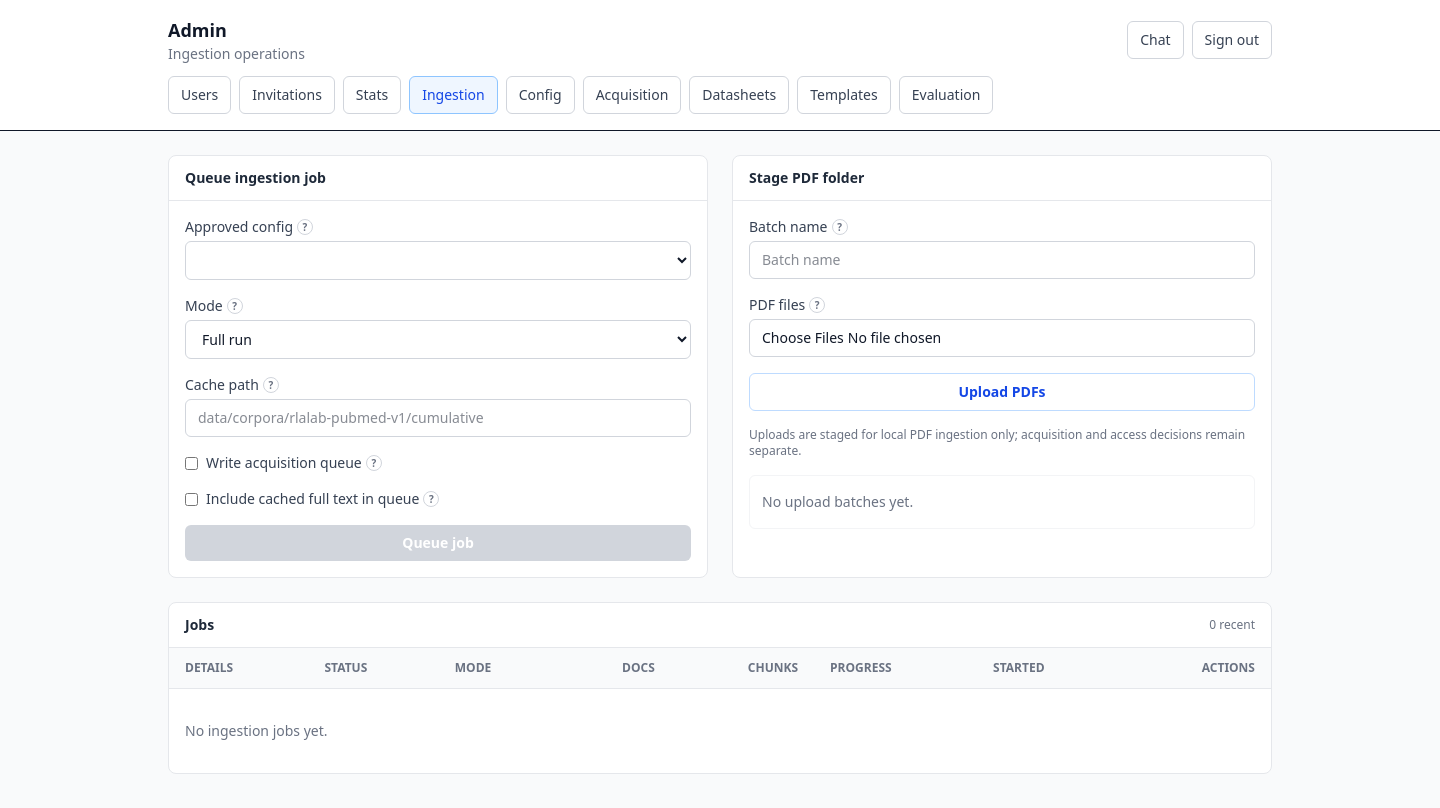
Test: AdminIngestionClient › queues an incremental PubMed ingestion job from the form
Expected: the heading "Queue ingestion job" is shown, [185, 168, 326, 187]
Select "Incremental PubMed update" in the dropdown showing "Full run". click: (438, 340)
box: [185, 320, 691, 359]
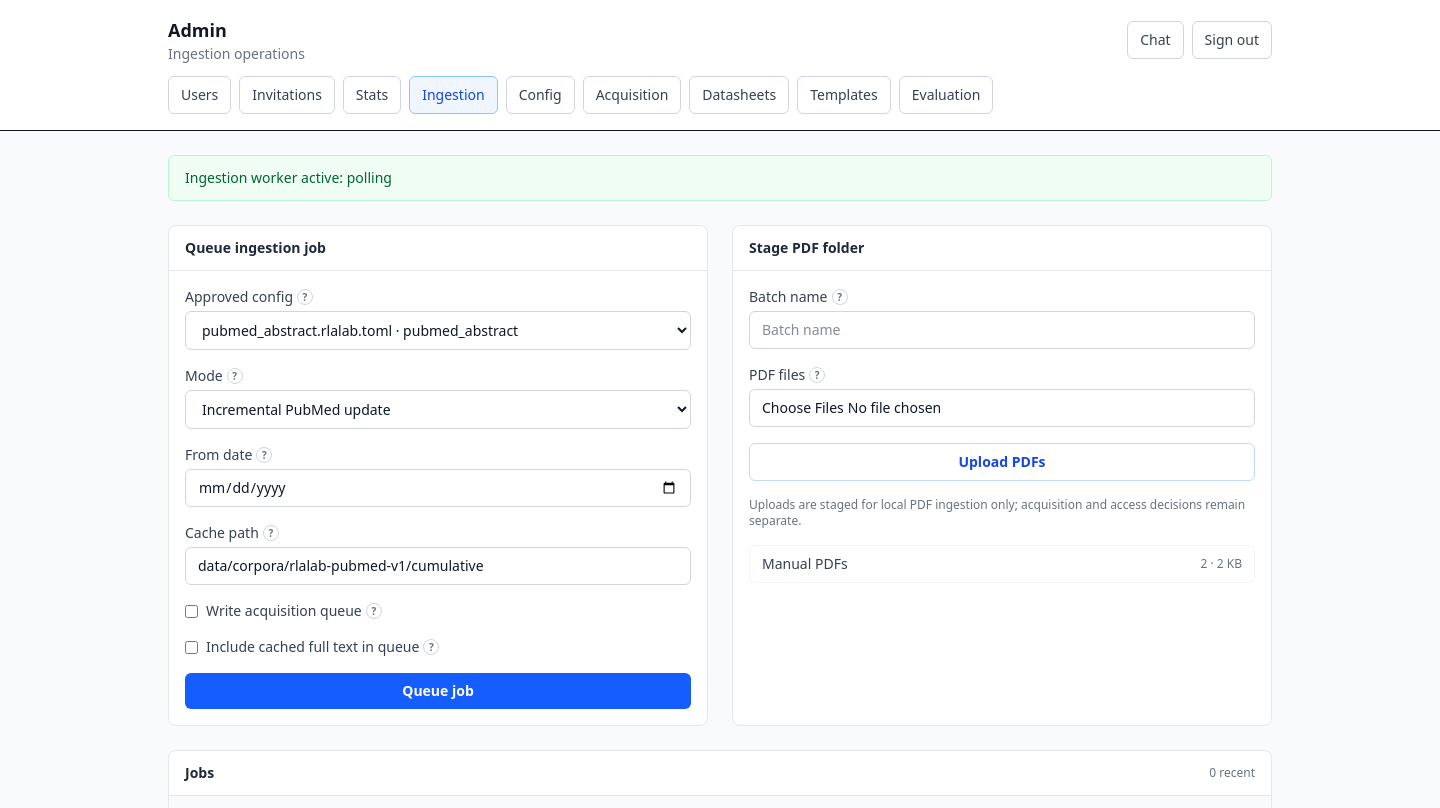
Type "2026-05-01" into the date field labelled "From date". click: (438, 488)
box: [185, 469, 691, 507]
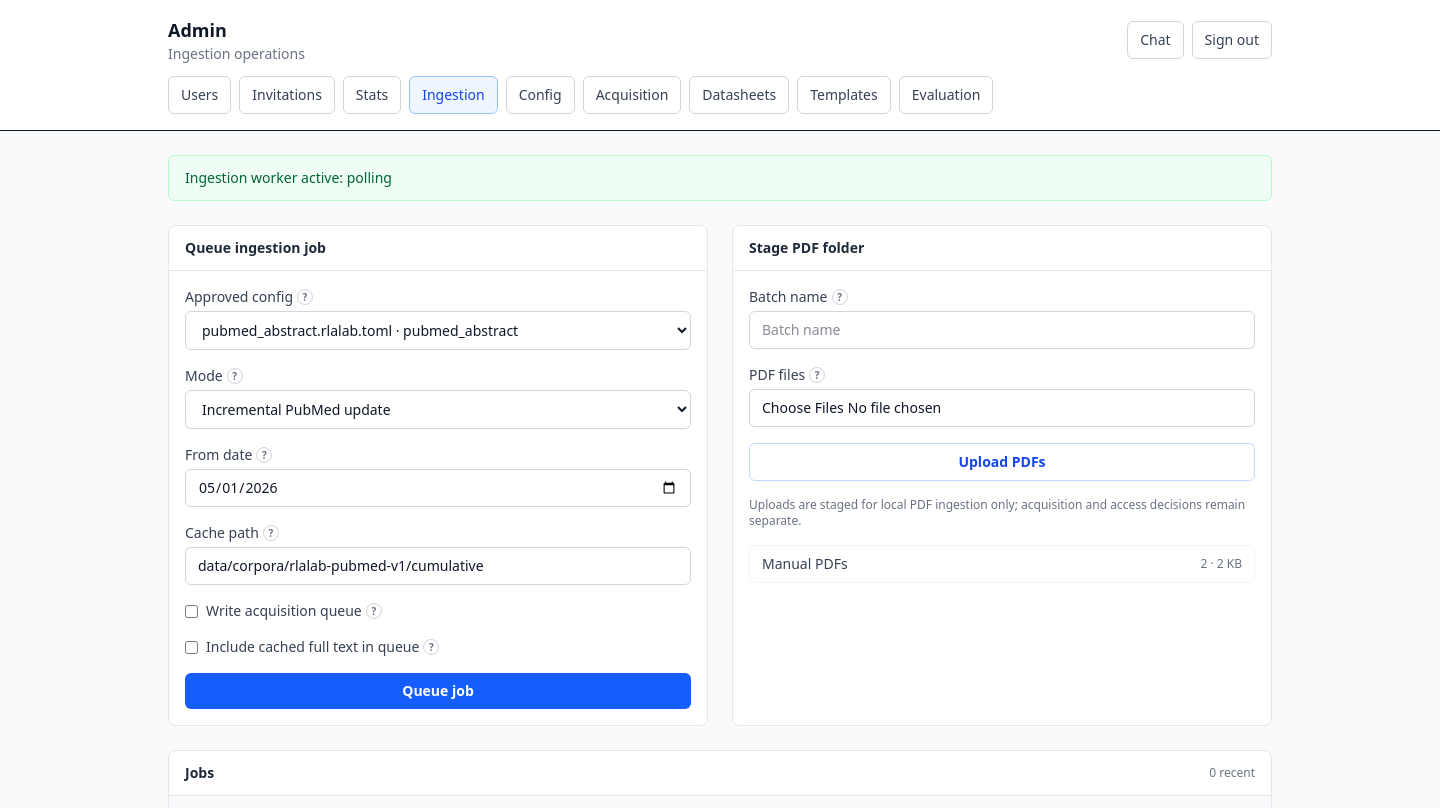
Click the checkbox labelled "Write acquisition queue". click: (192, 611)
box: [185, 604, 198, 618]
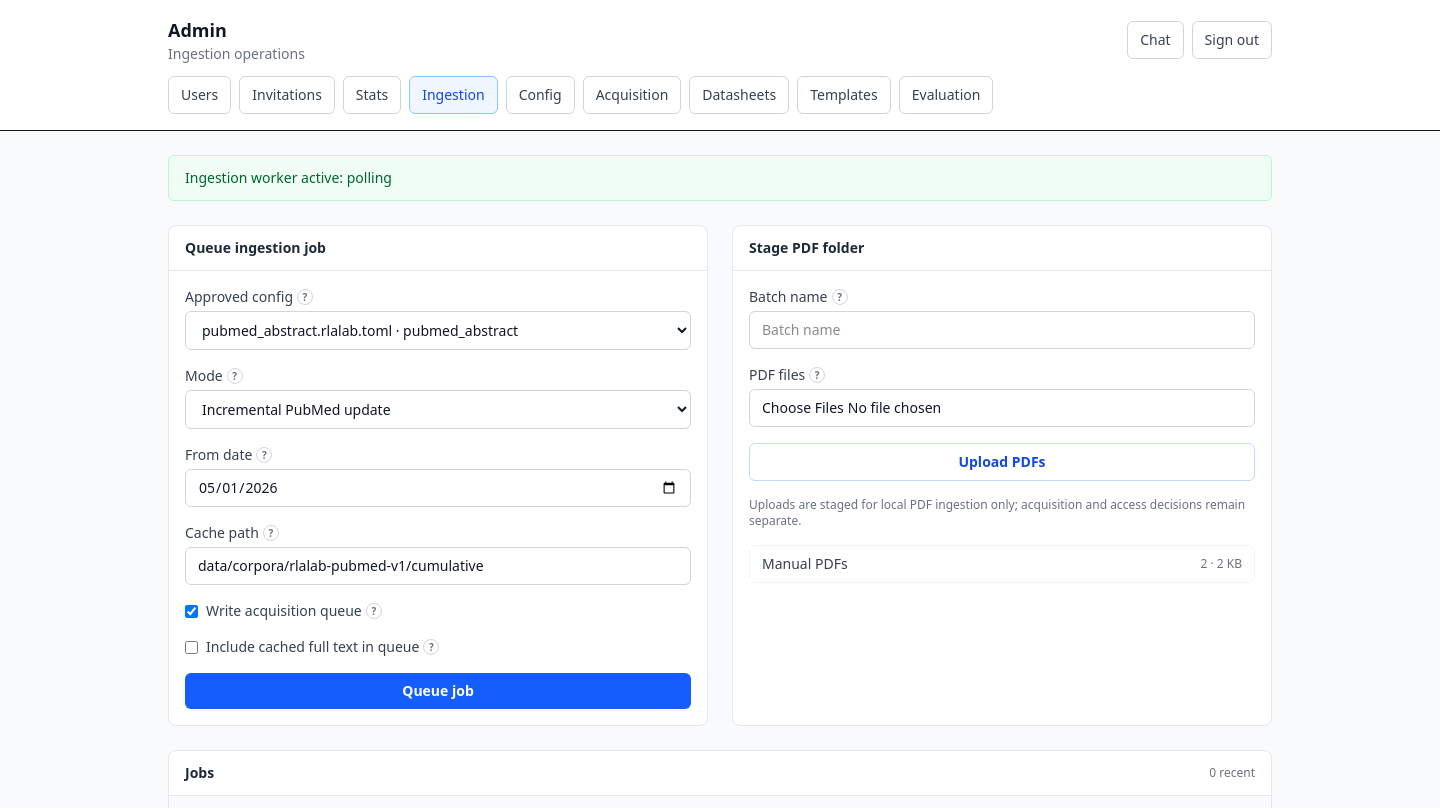
Click the button "Queue job". click: (438, 691)
box: [185, 673, 691, 709]
(page scrolled)
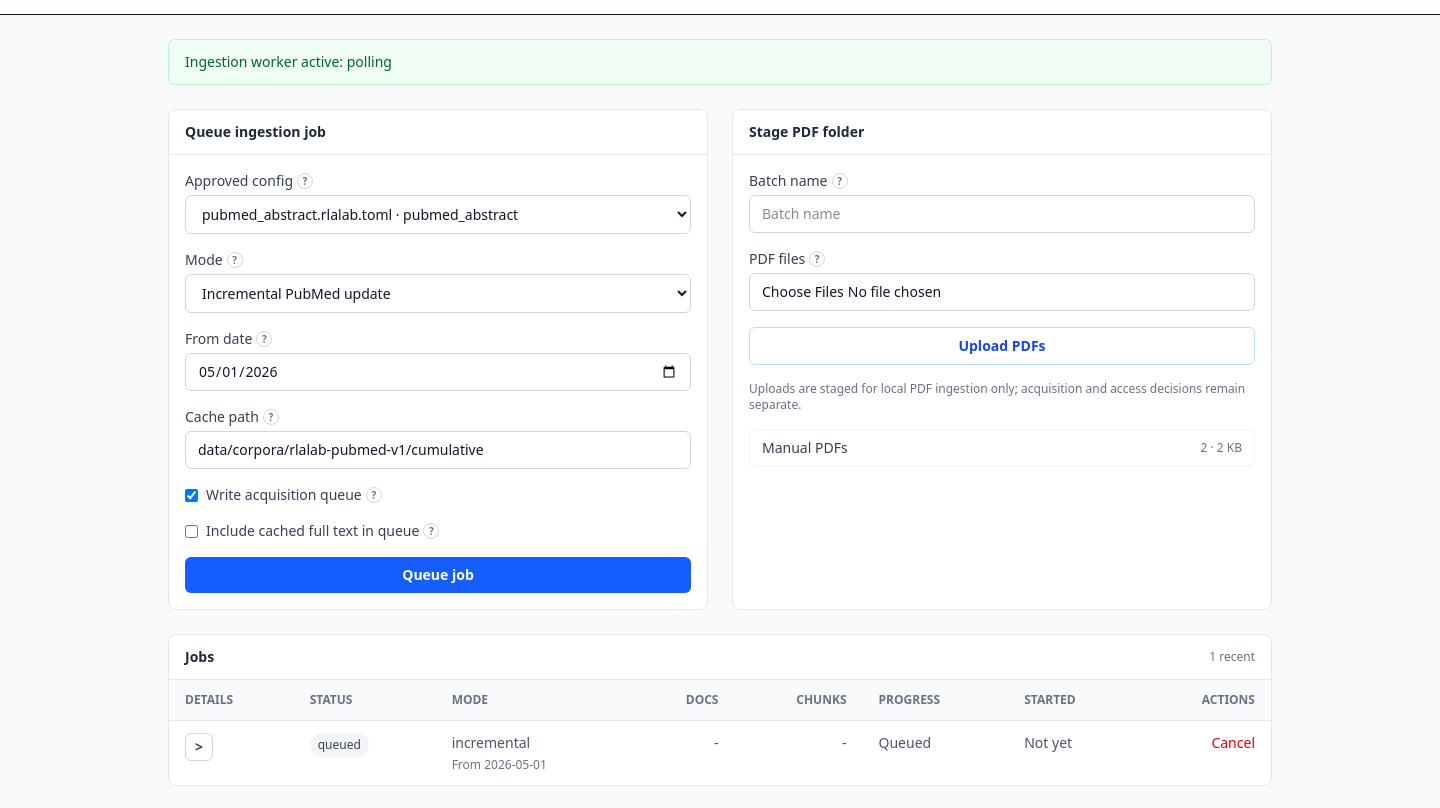
Expected: the text "Queued" is shown, [878, 733, 931, 752]
